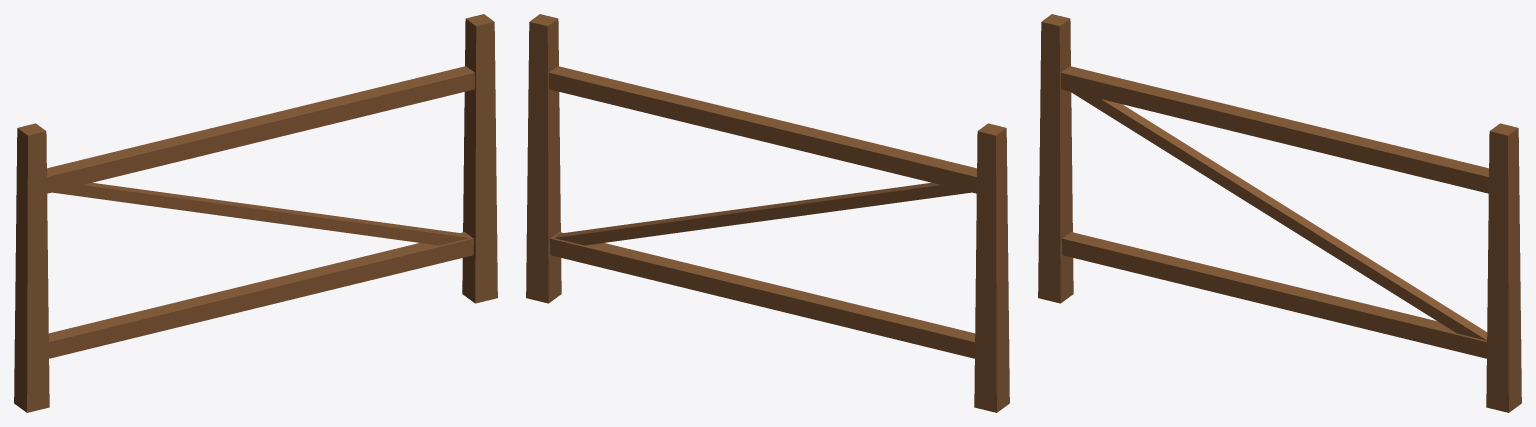
The model's file is Fence_8_Light_Brown.fbx.
3 views of the same model, side by side, from view 1: azimuth 30°, elevation 25°; view 2: azimuth 150°, elevation 25°; view 3: azimuth 330°, elevation 25° (orthographic).
Visible parts, largest first — view 1: Fence_8_Light_Brown; view 2: Fence_8_Light_Brown; view 3: Fence_8_Light_Brown.
Boxes of the visible parts, left/top/right/bottom form: Fence_8_Light_Brown: left=14, top=14, right=497, bottom=412; Fence_8_Light_Brown: left=526, top=14, right=1009, bottom=412; Fence_8_Light_Brown: left=1038, top=14, right=1521, bottom=412.
Size of the model in its own units: 179 by 100 by 8.55.
